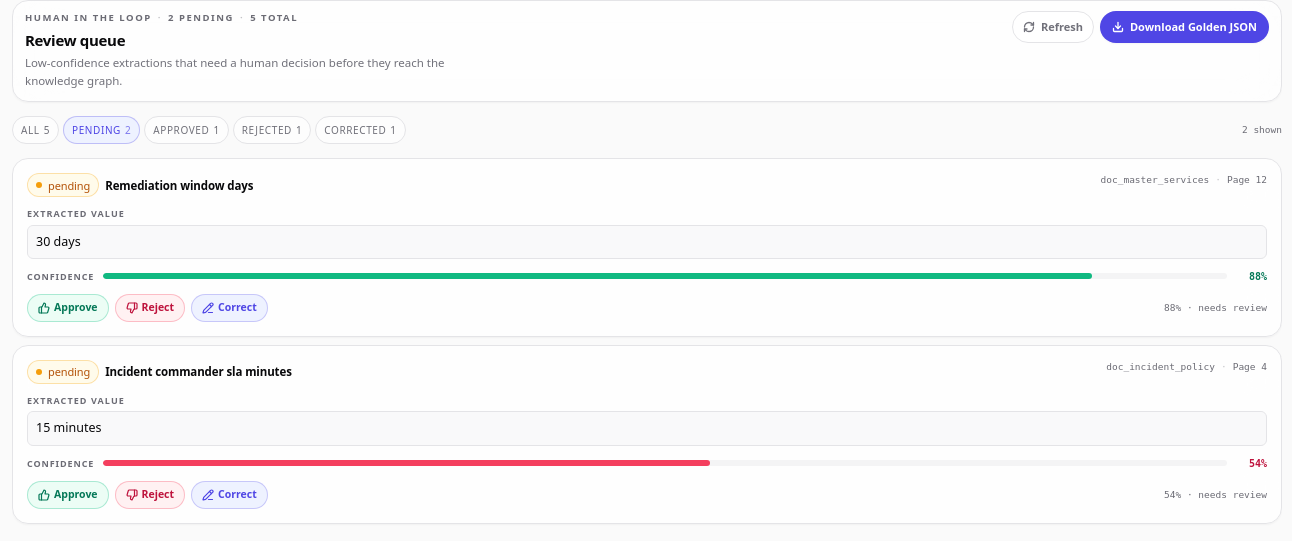
Test: ReviewQueuePanel › approves an item with the documented payload
The width and height of the screenshot is (1292, 541).
What coordinates should you click on to do the following:
click the button "Approve" in the row of "88% · needs review"
I would click on:
 (68, 308)
Its box is left=27, top=294, right=109, bottom=322.
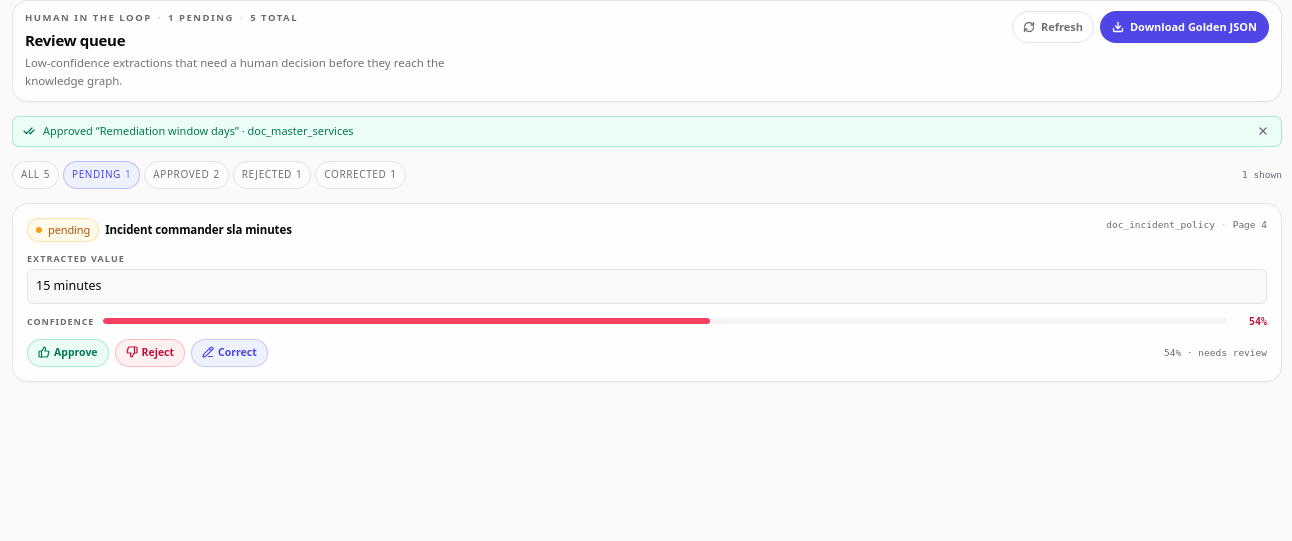
Check: the text "· doc_master_services" is shown, box left=43, top=123, right=354, bottom=138
